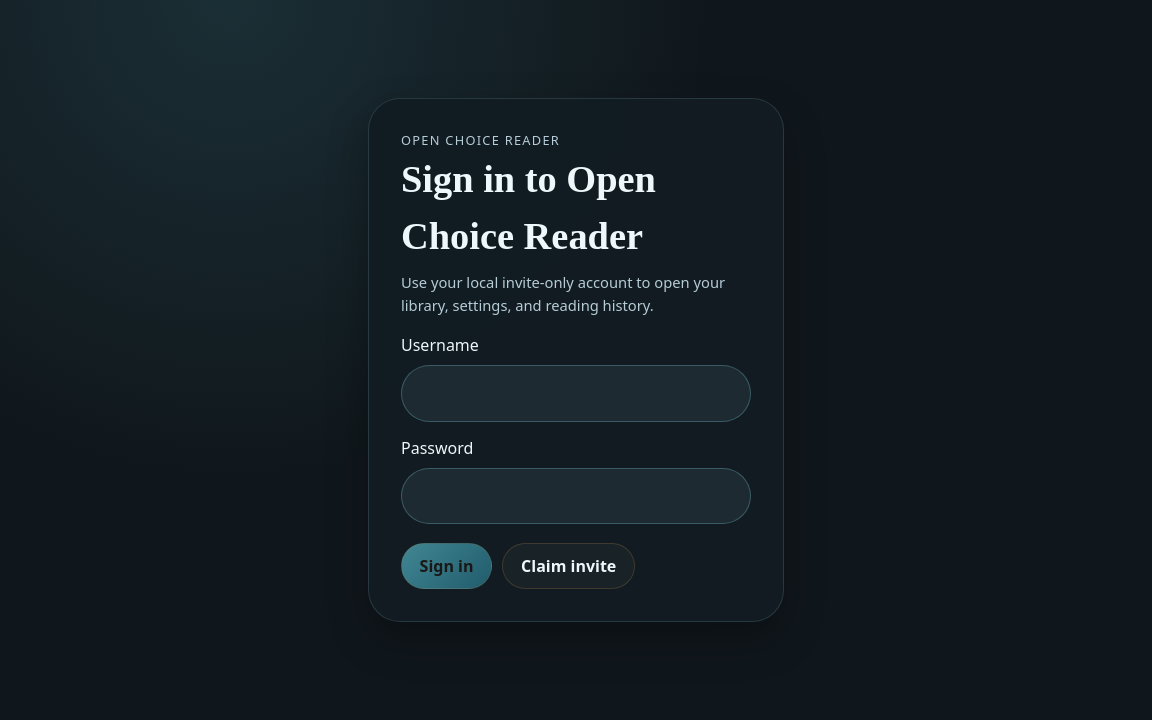
Test: Auth flows › supports login and logout flows
expect the heading "Sign in to Open Choice Reader" is shown: met, box [401,158,656,257]
Type "avery" into the field labelled "Username" at (576,393), box [401,365,751,422]
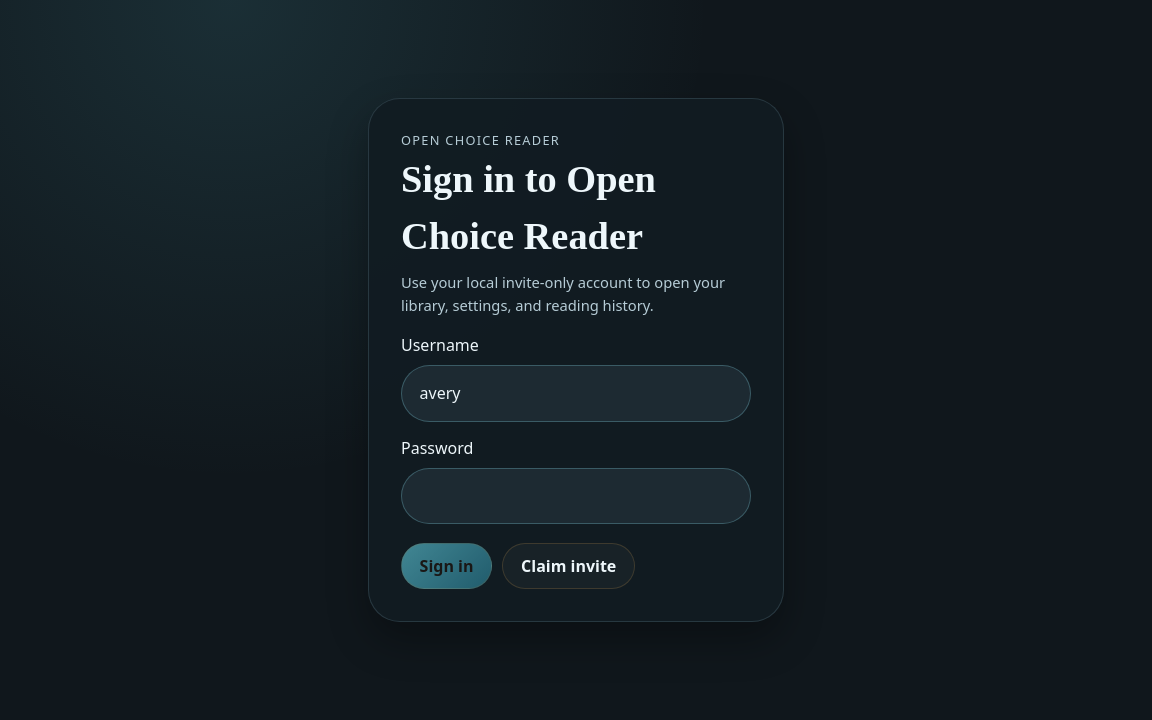
Type "reader-password-123" into the password field labelled "Password" at (576,496), box [401,468,751,524]
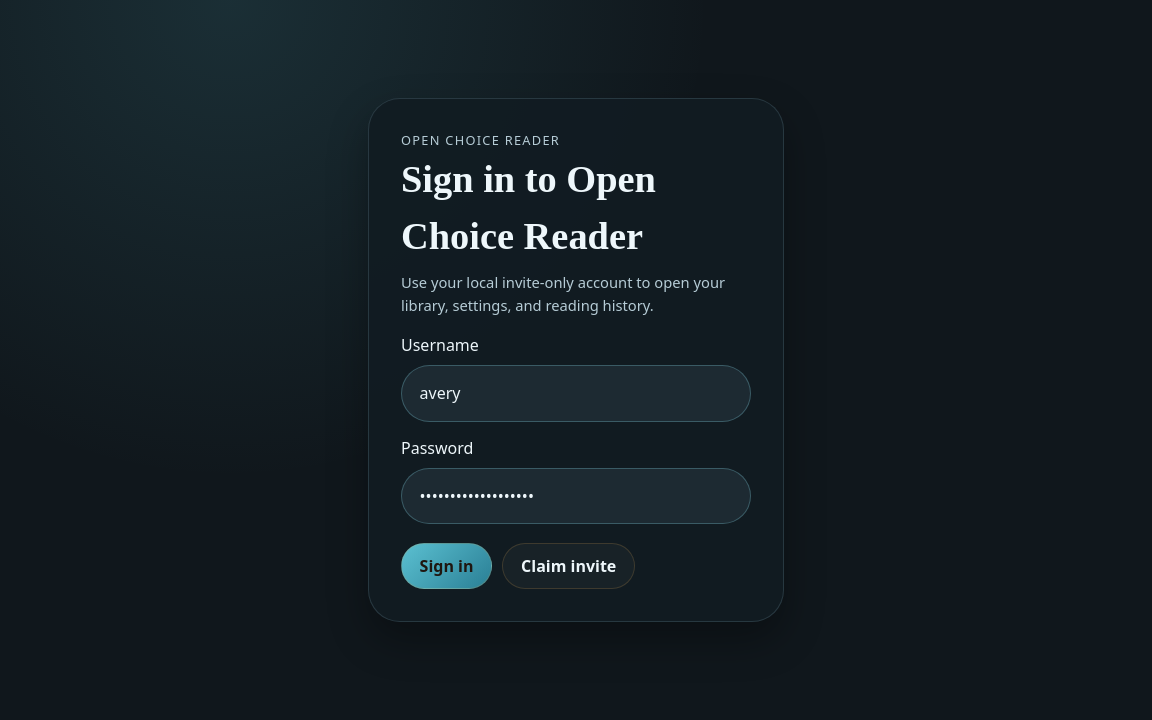
Click the button "Sign in" at (447,566), box [401,543,492,588]
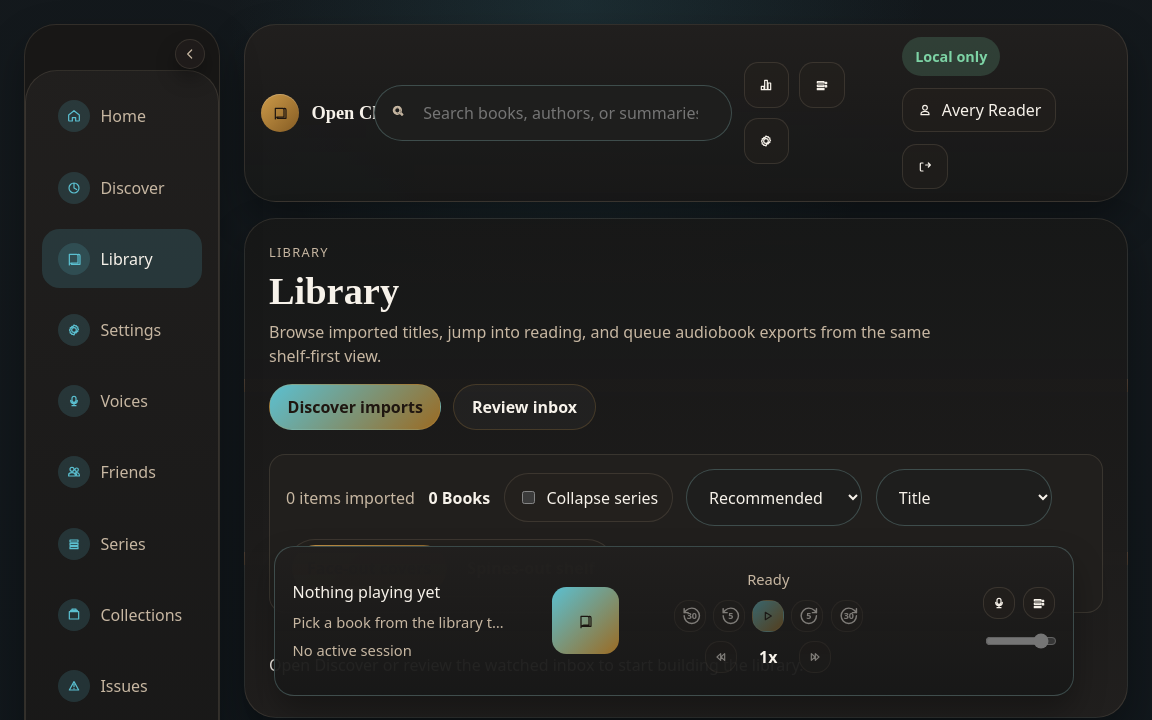
expect the button "Avery Reader" is shown: met, box [902,88,1056,132]
Click the button named "Sign out" at (925,167), box [902,144,948,189]
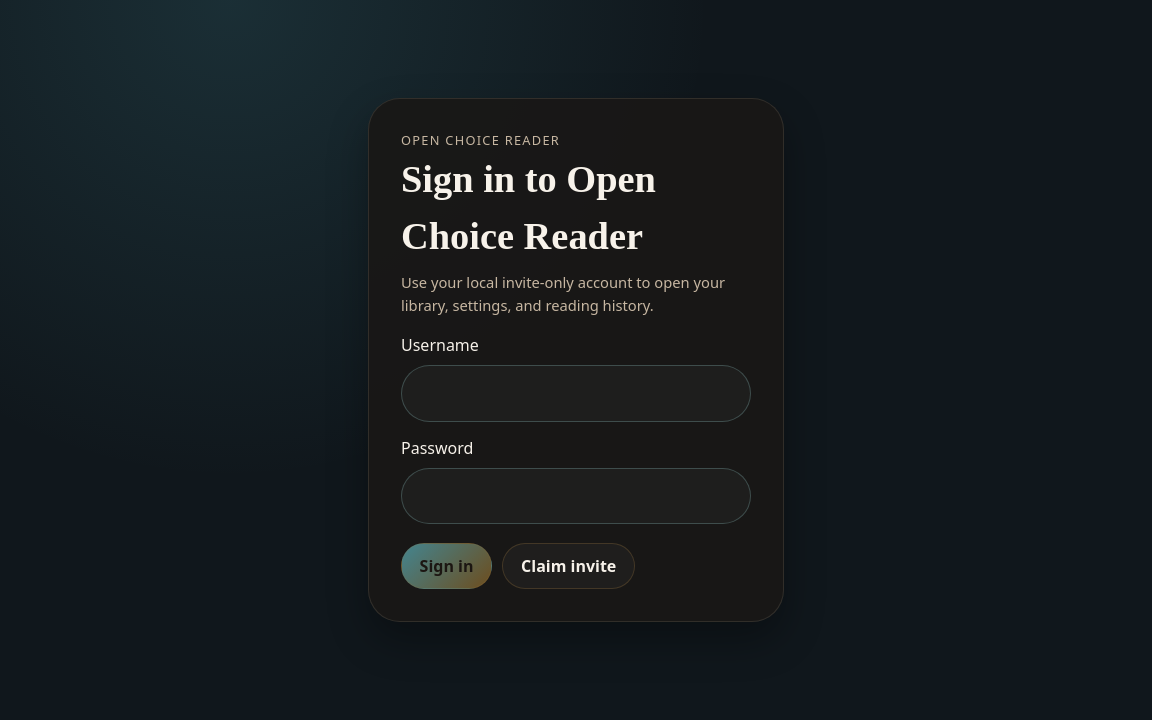
expect the heading "Sign in to Open Choice Reader" is shown: met, box [401,158,656,257]
